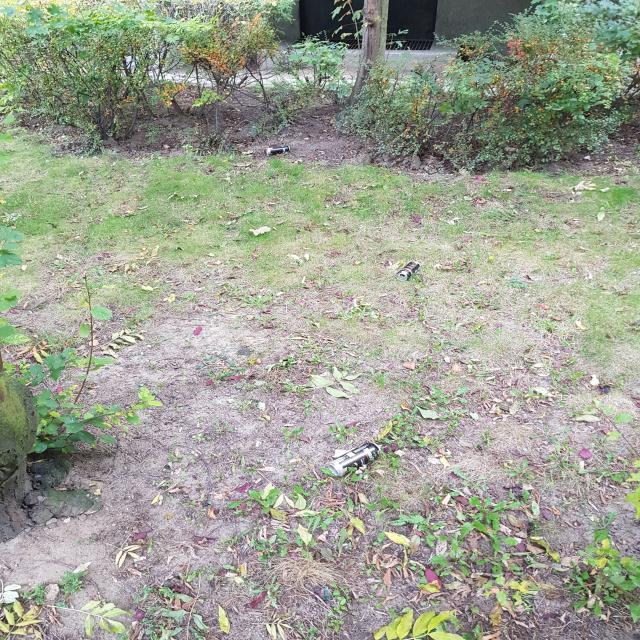rubbish: (590, 194, 637, 235), (348, 165, 375, 185), (194, 262, 209, 282)
